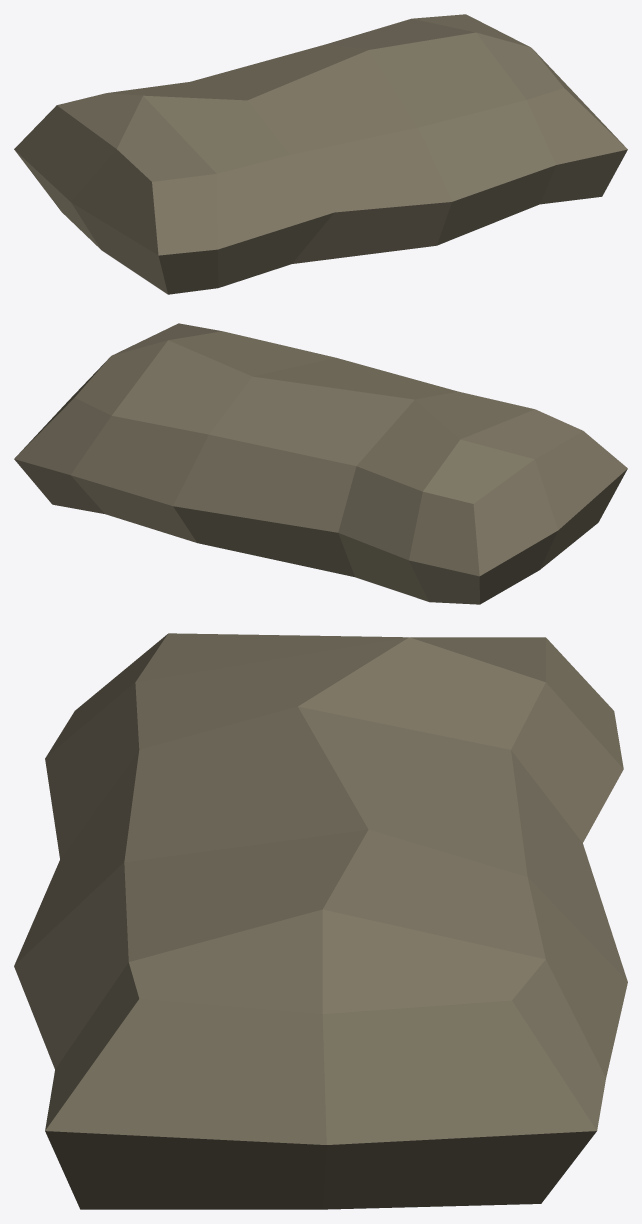
File: Sandbag.fbx
The picture shows the model from 3 angles, top to bottom: view 1: azimuth 30°, elevation 25°; view 2: azimuth 150°, elevation 25°; view 3: azimuth 270°, elevation 25°; orthographic projection. The views are drawn at different scales.
Visible parts, largest first — view 1: pCube664; view 2: pCube664; view 3: pCube664.
Part boxes in pixels (<box>): pCube664: <box>14,14,627,294</box>; pCube664: <box>14,323,627,604</box>; pCube664: <box>14,633,627,1209</box>.
Size of the model in its own units: 1.38 by 0.4312 by 0.8054.
